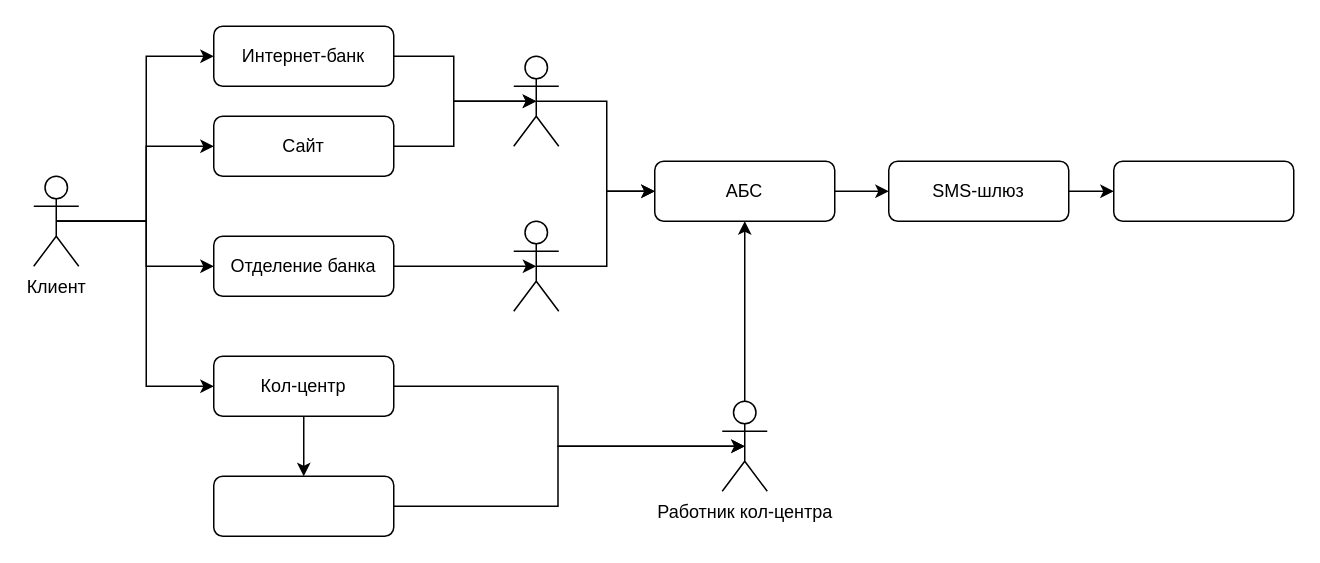
Image size: 1320x563. Some labels were removed from this diagram. Here are the shapes that lost their labels. From the top down, the centre of each, then its label:
At point (535, 100): "Работник бэк-офиса".
At point (1203, 190): "Телеком оператор".
At point (535, 265): "Работник фронт-офиса".
At point (303, 505): "Партнерский кол -центр".
